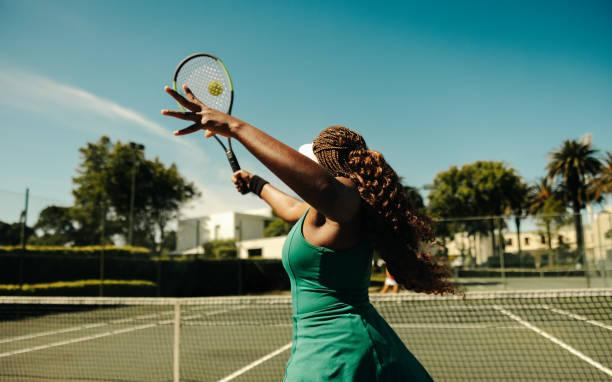ball_tennis: (207, 81, 222, 96)
